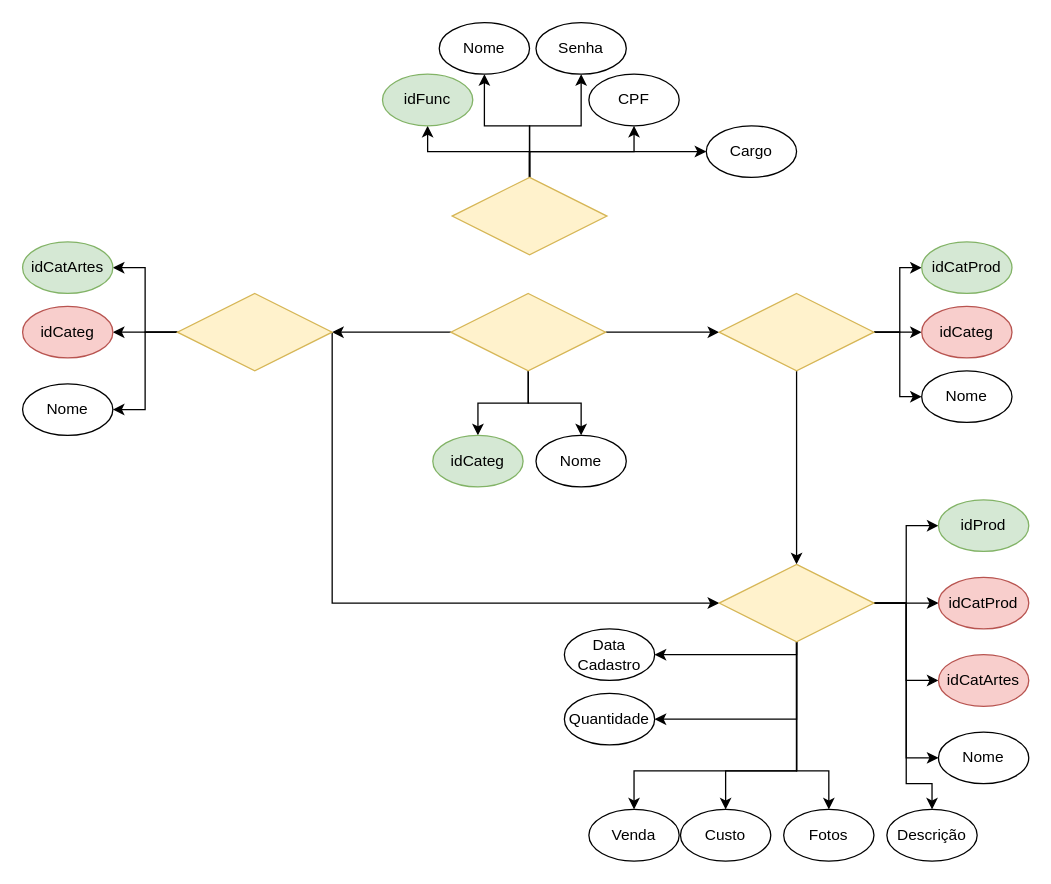
Some shapes in this 1051 by 884 pixel diagram are drawn without their labels. The centre of each missing label's shape, as x and y in pixels:
"Categorias" goes at pixel 528 331.
"Funcionarios" goes at pixel 529 215.
"Item" goes at pixel 796 602.
"SubCateg Artesanato" goes at pixel 254 331.
"SubCateg Produto" goes at pixel 796 331.
